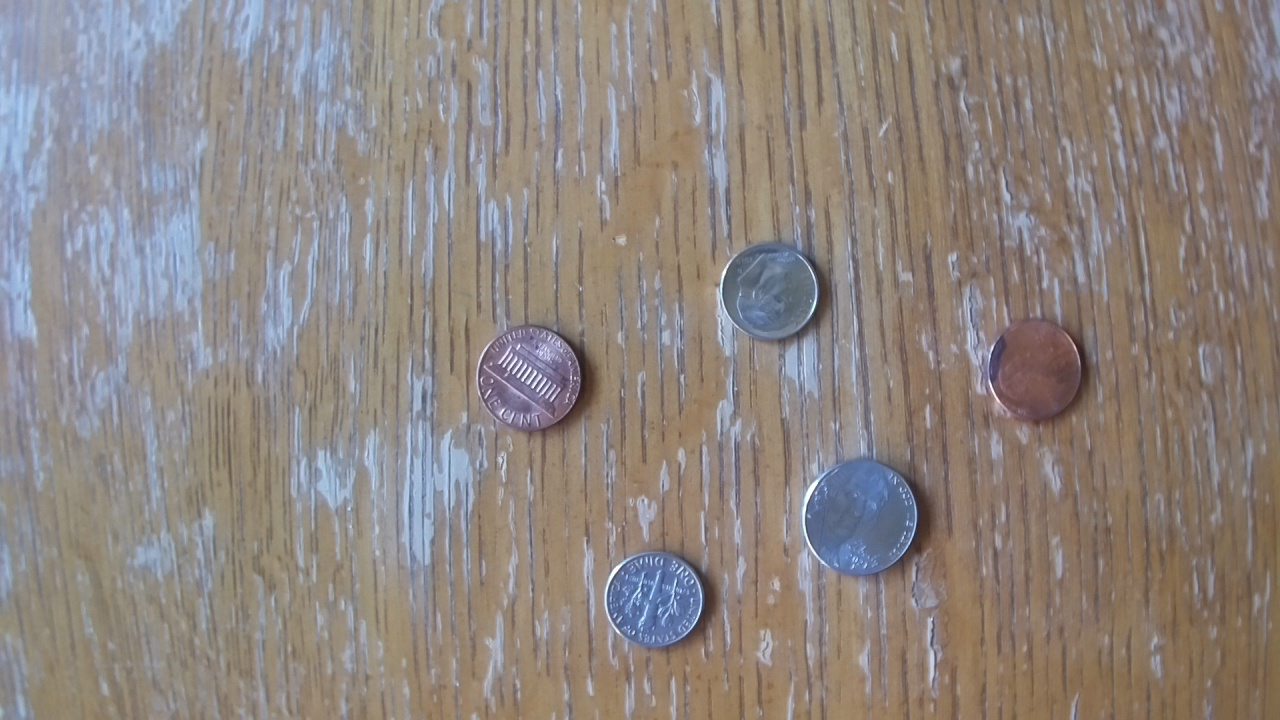dime: (718, 242, 822, 341), (605, 546, 702, 649)
nickel: (803, 458, 921, 575)
penny: (475, 323, 582, 432), (986, 317, 1085, 421)
